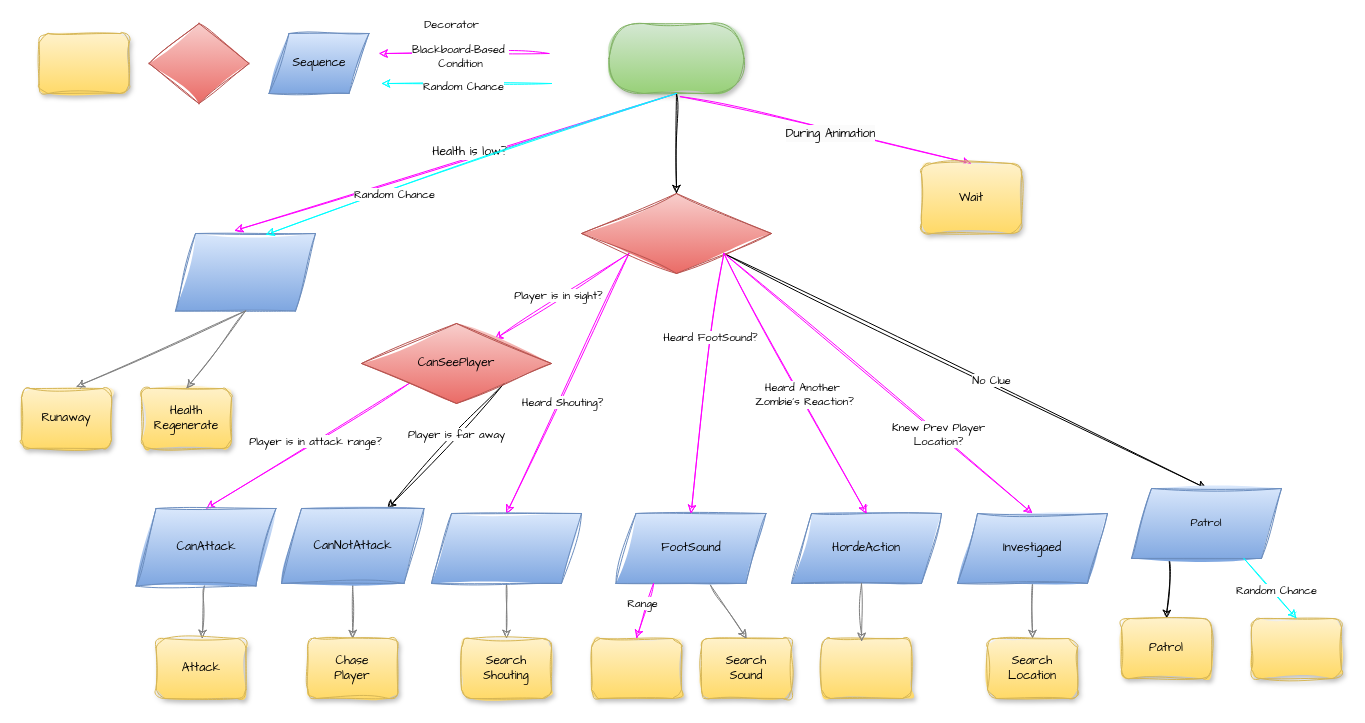
The diagram is 1365 pixels wide and 723 high, and some of its shapes have lost their labels. The shapes that lost their labels are listed below. From the top down, each one's centre as x and y in pixels, then its label:
At [84,64]: "Task".
At [198,63]: "Selector".
At [677,59]: "Zombie_ BT".
At [676,233]: "Detect".
At [245,271]: "Flee".
At [506,548]: "Shouting".
At [637,670]: "Select Random Location".
At [867,670]: "Follow Zombie".
At [1297,650]: "Rest".
